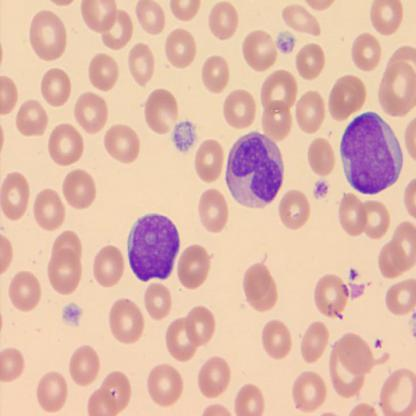Blast: (338, 109, 405, 197), (223, 127, 285, 212), (127, 209, 182, 286)
